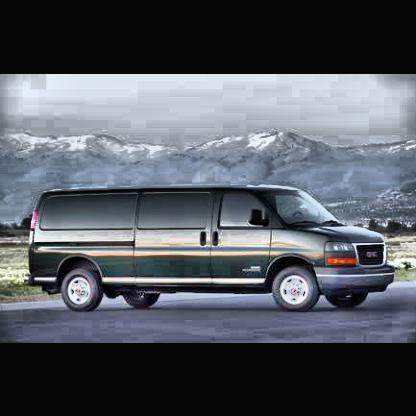GMC Savana Van 2012: (25, 186, 398, 314)
